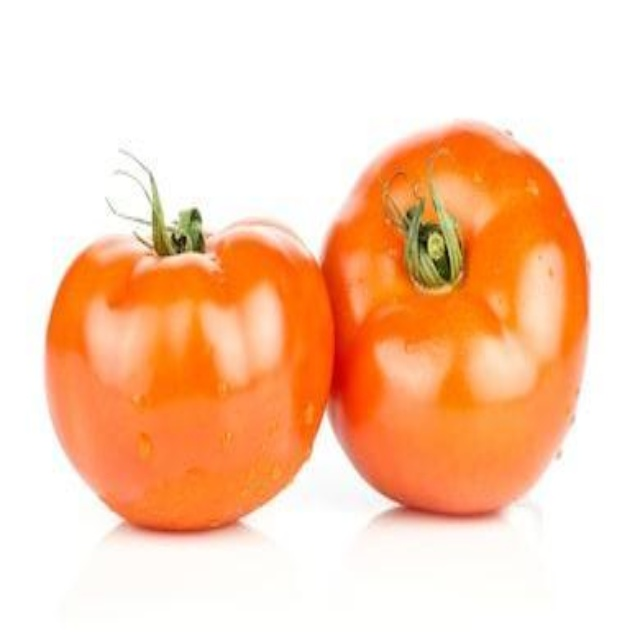tomato: (321, 115, 589, 518), (46, 174, 337, 541)
